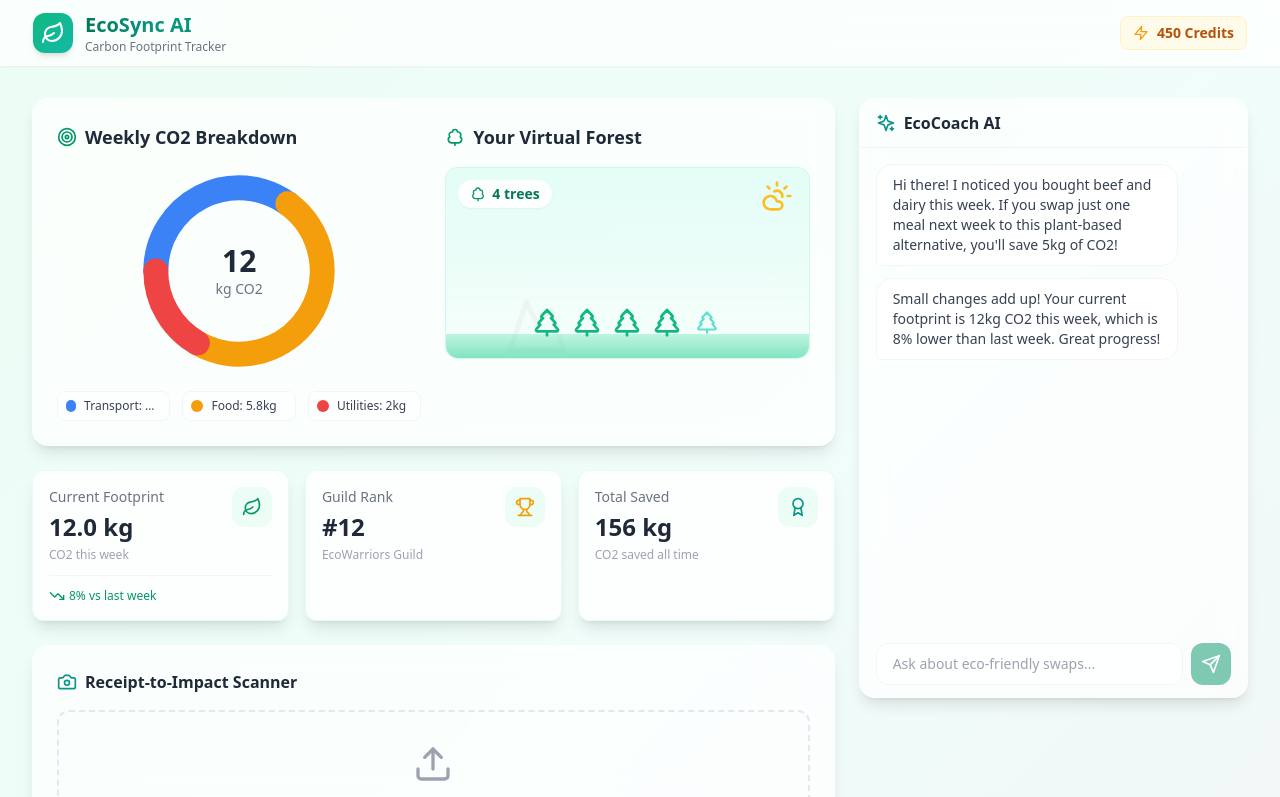
Test case: AI Chatbot Input Validation › sanitizes potentially dangerous input
Note: Input with script tags - these will be stripped by sanitization
Type "Test message" into the field with test id "chat-input".
click(1029, 664); type("Test message")  # box [876, 643, 1183, 685]
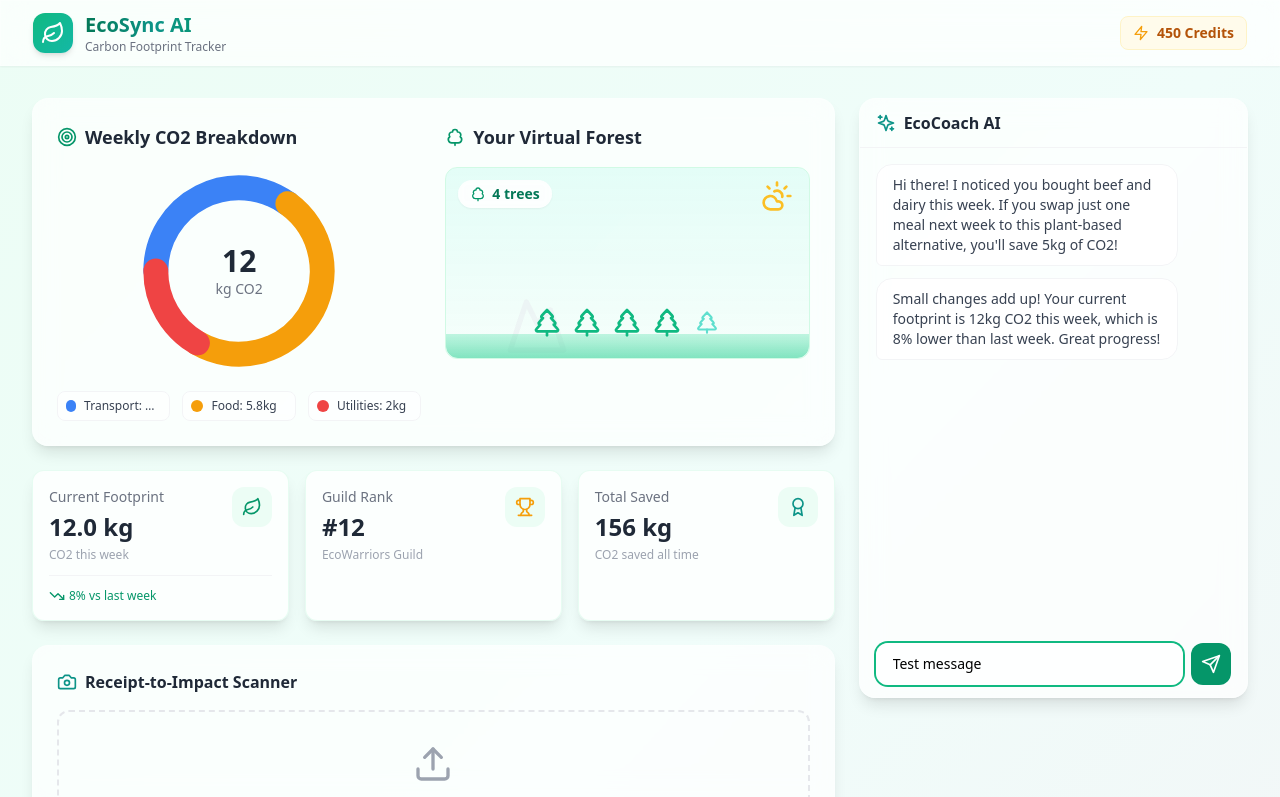
Click the button with test id "send-button".
click(1211, 664)  # box [1191, 643, 1231, 685]
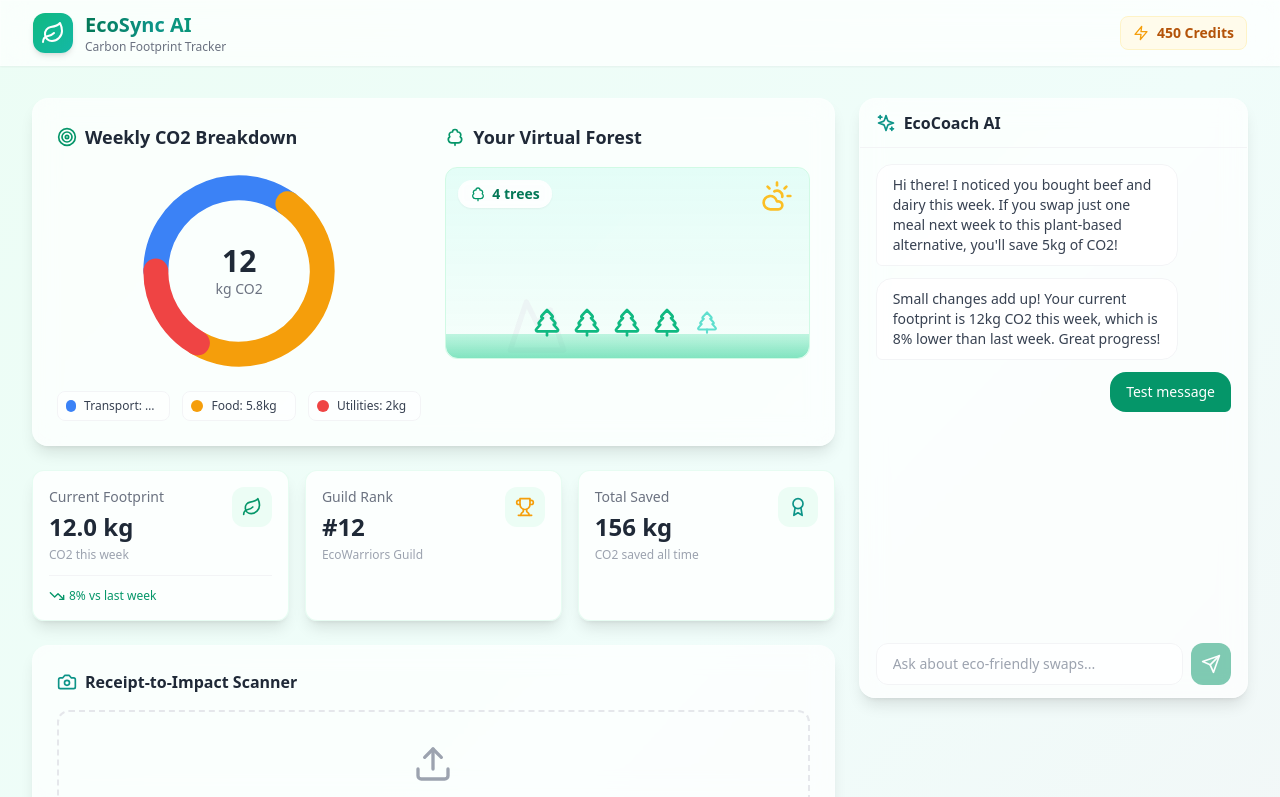
expect the text "Test message" is shown: met, box [1126, 382, 1215, 402]
